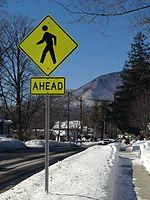Pedestrian Crossing: (8, 10, 83, 101)
